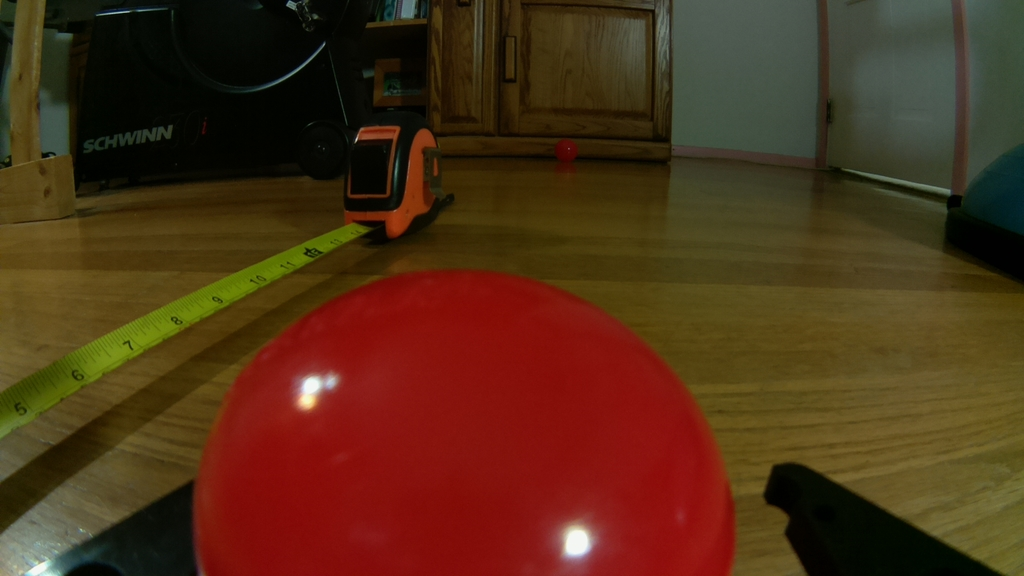ball: (192, 266, 742, 575)
